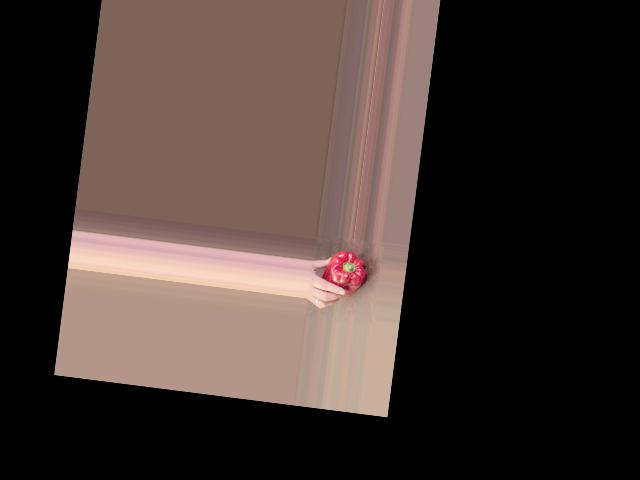bell_pepper: (322, 247, 369, 296)
